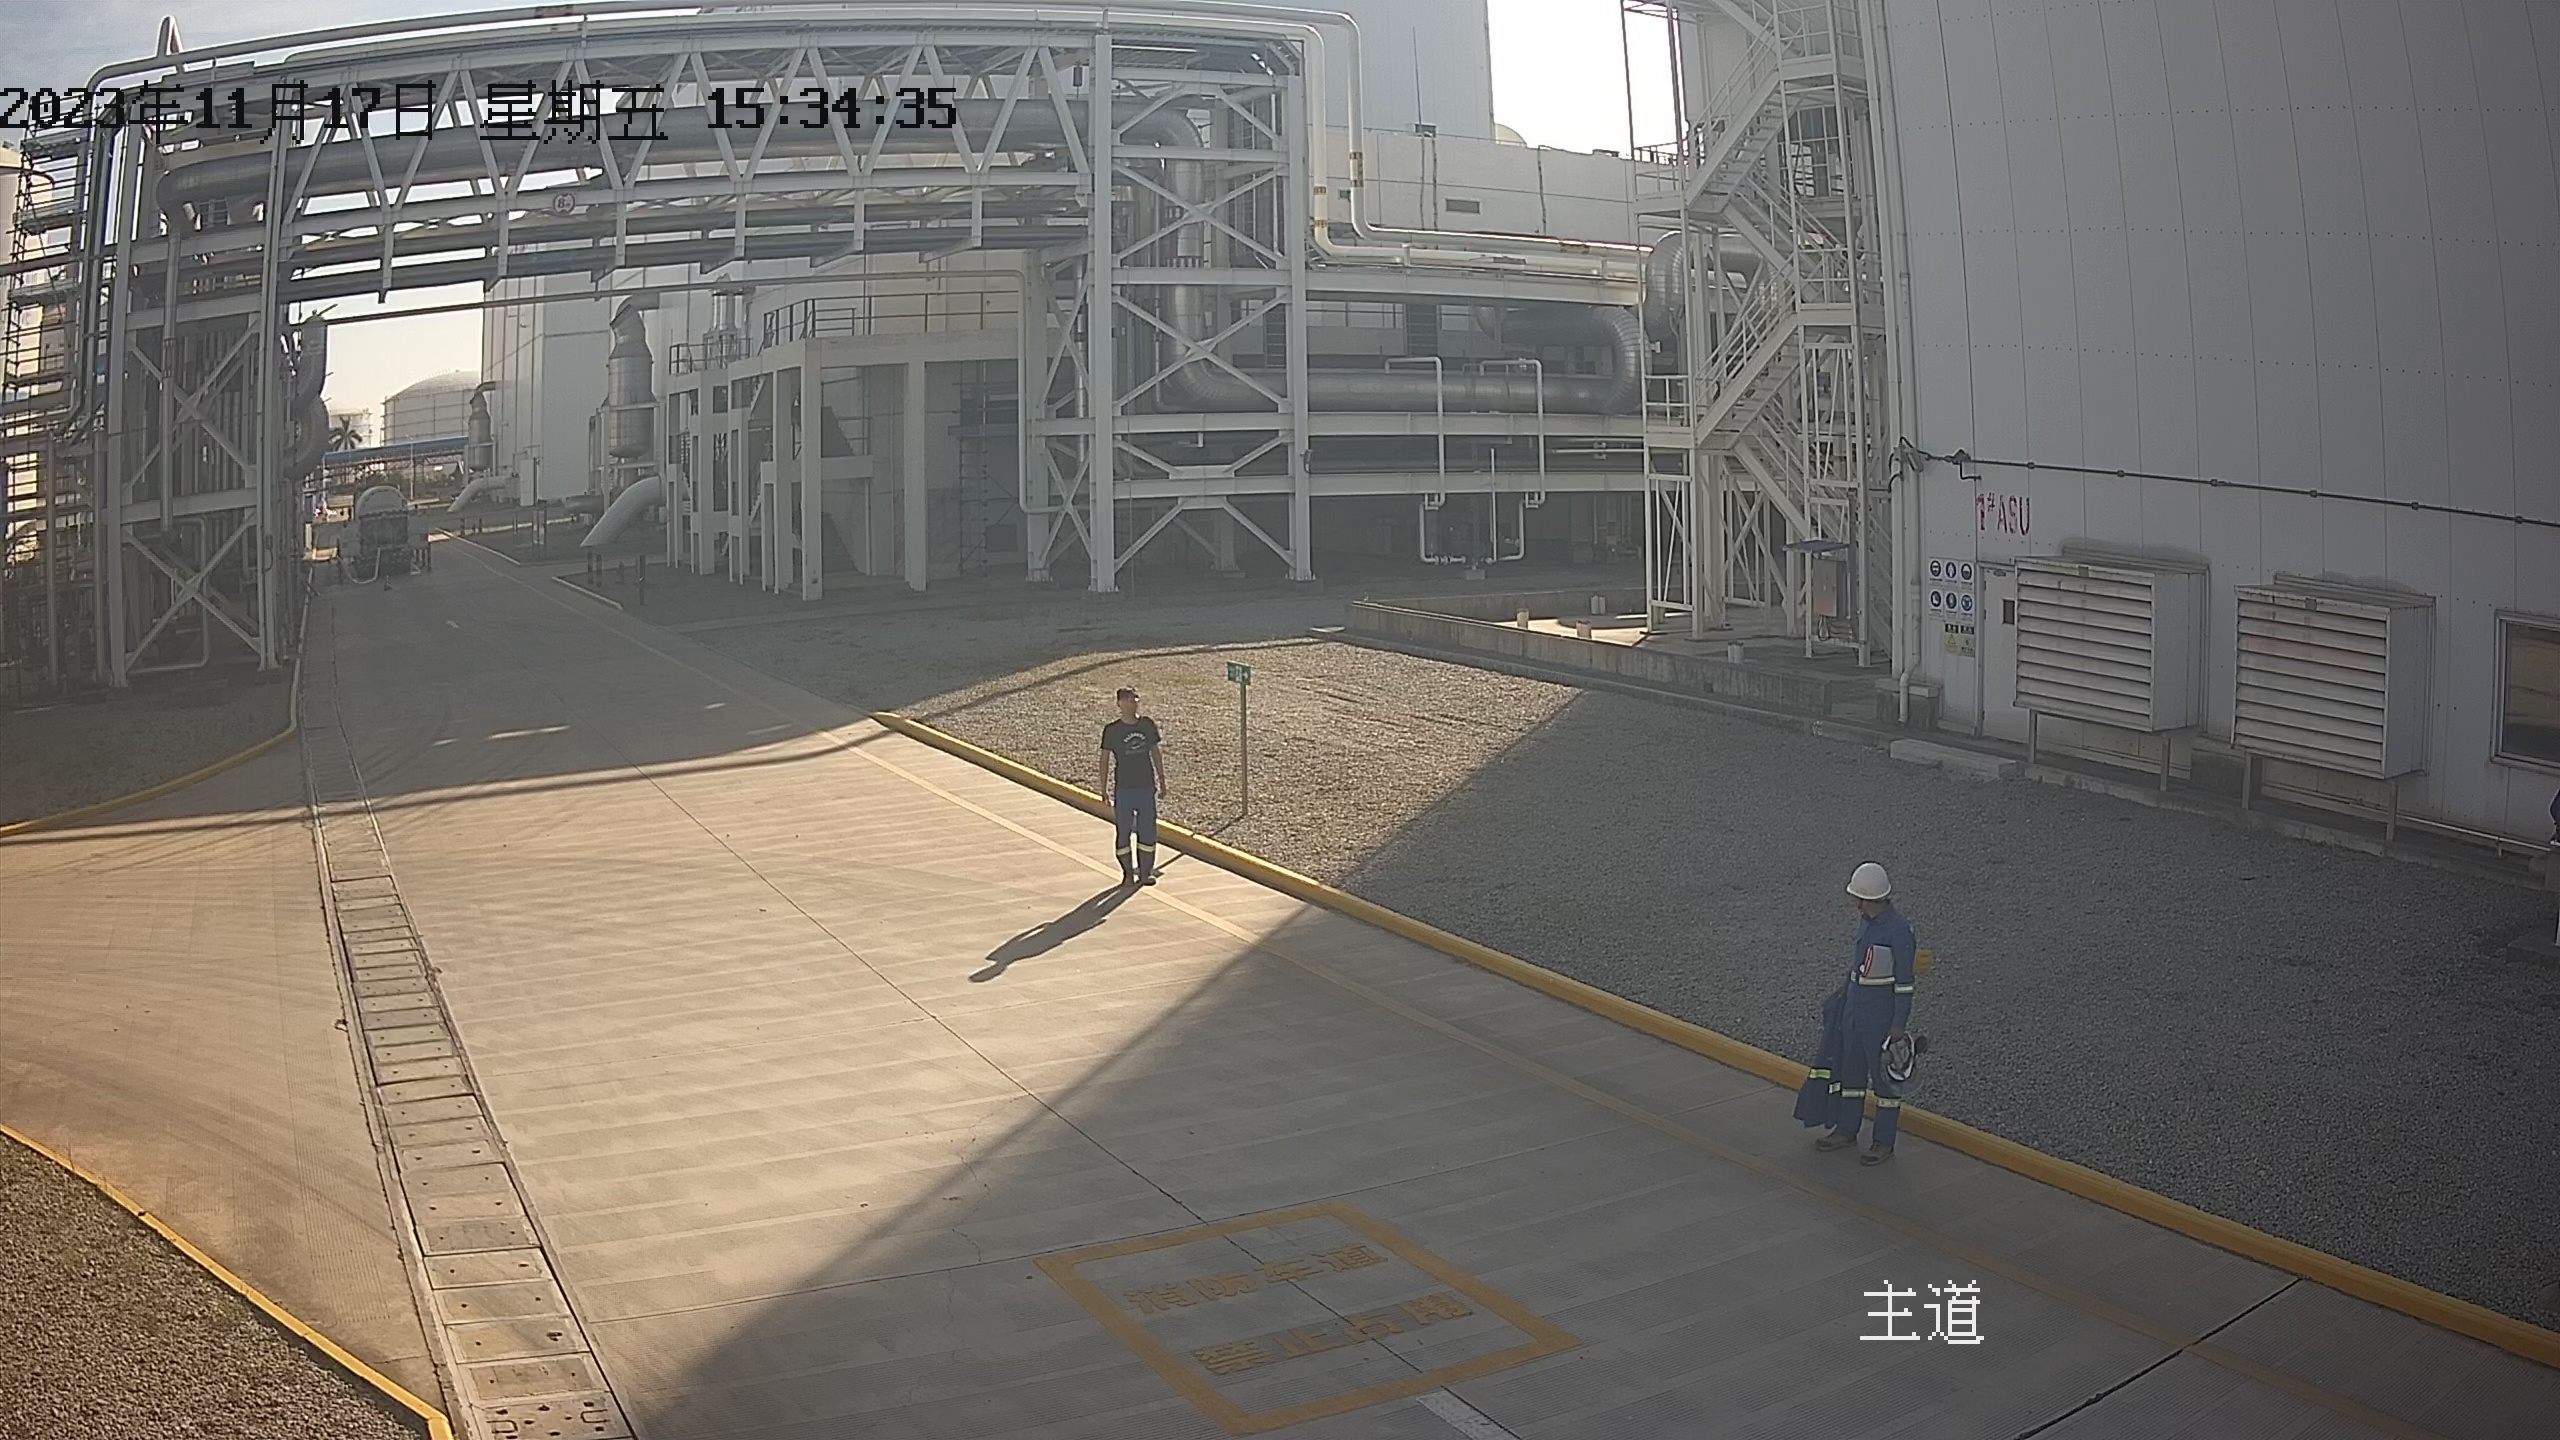Body_without_uniform: (1068, 711, 1216, 912)
Head_with_Helmet: (1824, 849, 1924, 931)
Head_without_covering: (1088, 674, 1164, 725)
Uniform: (1791, 904, 1953, 1169)
